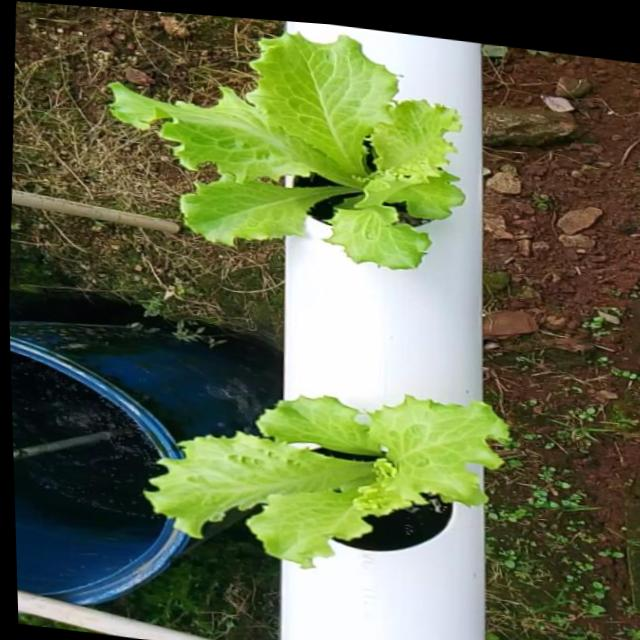Baby: (109, 37, 463, 274), (145, 404, 510, 578)
